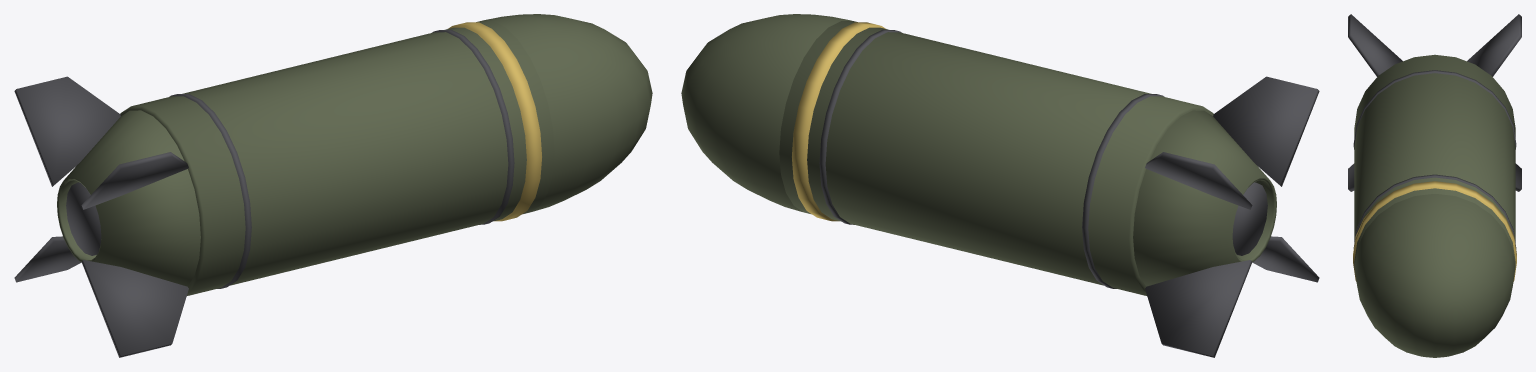
Rendered from bombdrop_3.glb.
The picture shows the model from 3 angles, left to right: view 1: azimuth 30°, elevation 25°; view 2: azimuth 150°, elevation 25°; view 3: azimuth 270°, elevation 25°; orthographic projection. The views are drawn at different scales.
Visible parts, largest first — view 1: bombdrop_3; view 2: bombdrop_3; view 3: bombdrop_3.
Part boxes in pixels (<box>): bombdrop_3: <box>14,14,652,357</box>; bombdrop_3: <box>681,14,1319,357</box>; bombdrop_3: <box>1348,14,1521,357</box>.
Size of the model in its own units: 1.01 by 0.3239 by 0.3239.
